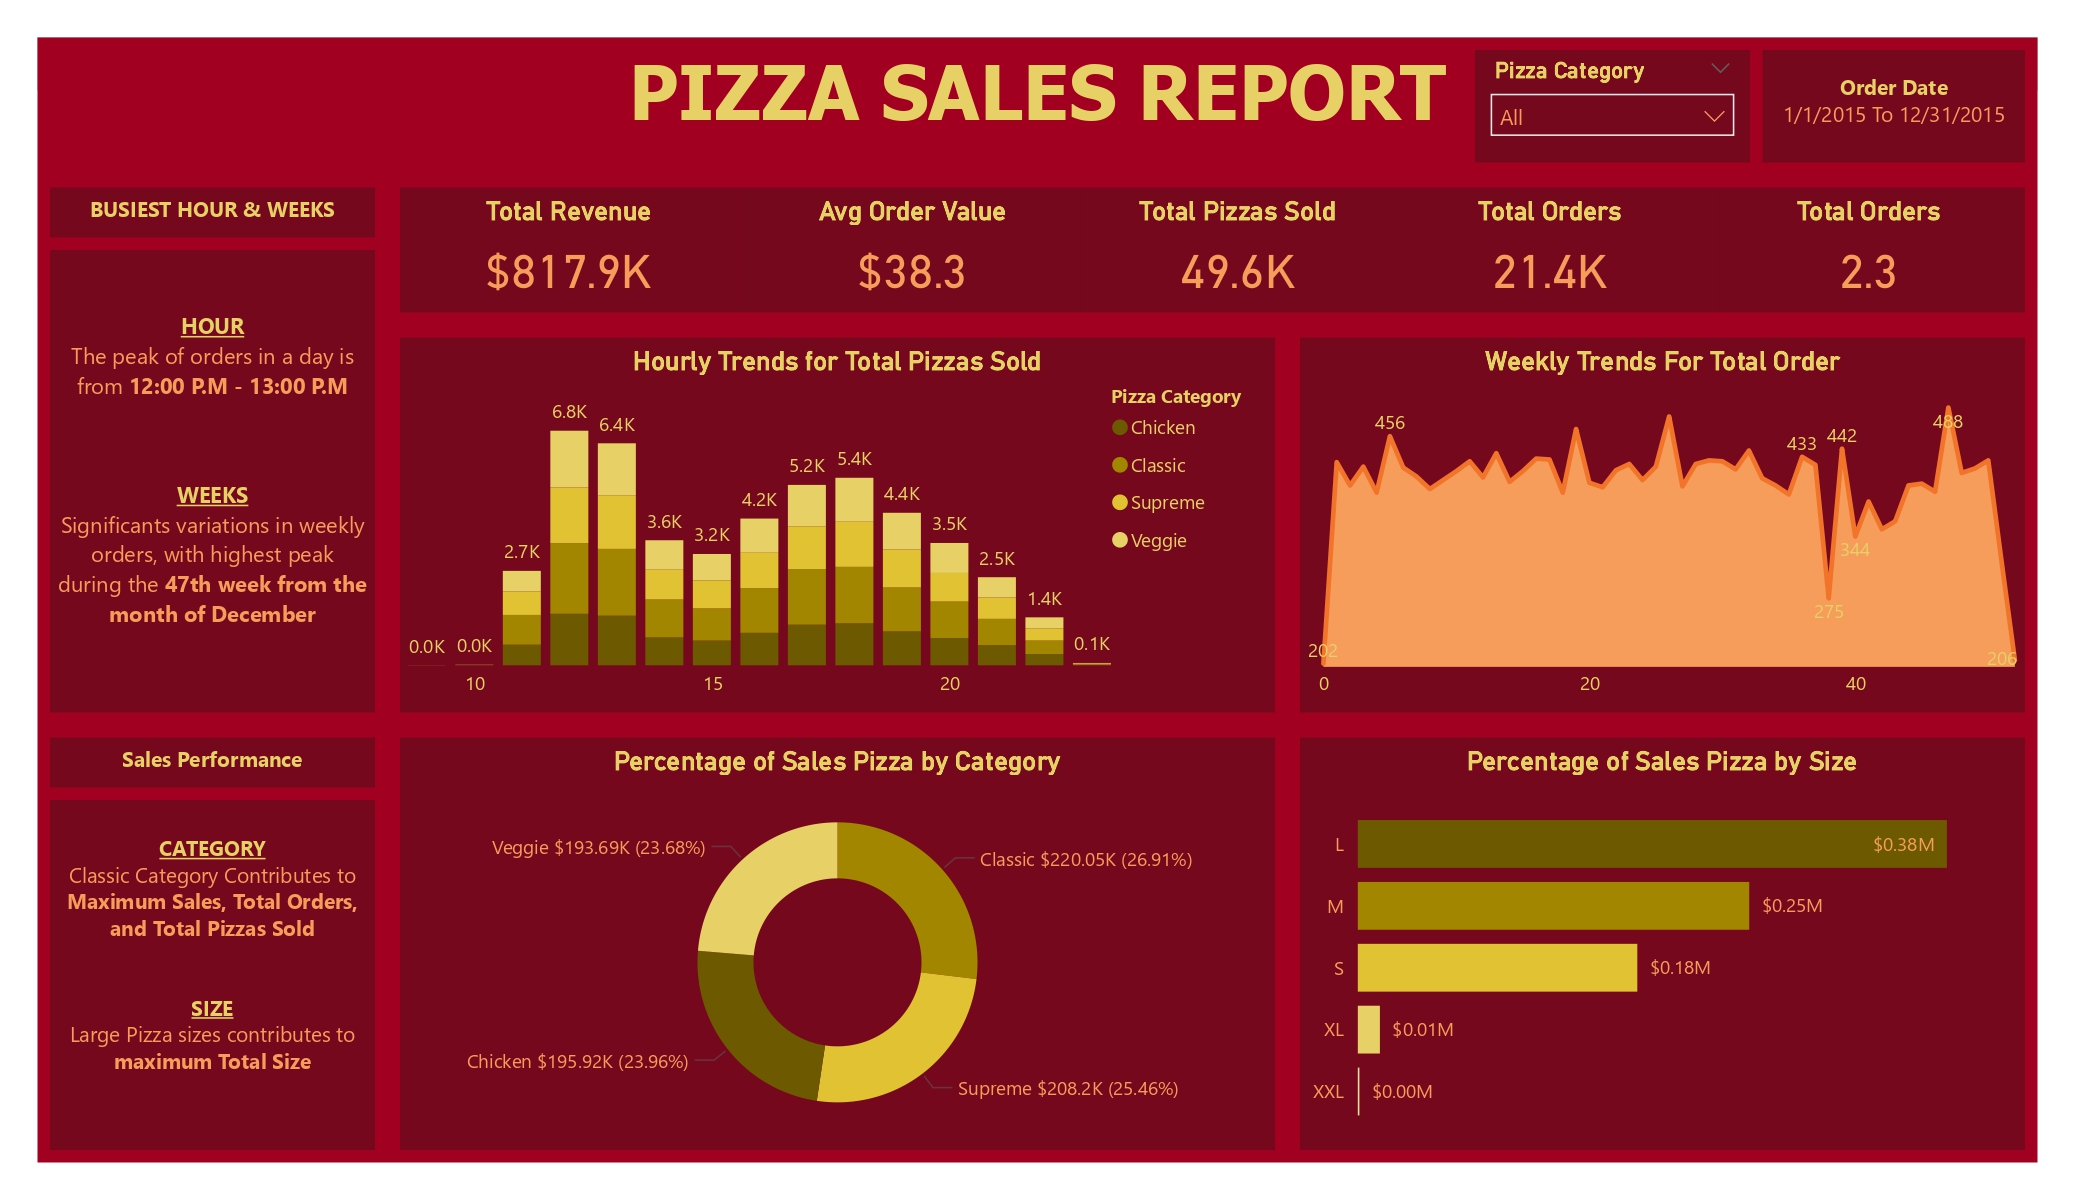

This screenshot's page, from the dashboard's own definition file:
{"tool":"powerbi","page":{"name":"Page 1","canvas":[1280,720],"ordinal":0},"visuals":[{"type":"textbox","box":[352,0,576,80],"z":0},{"type":"card","title":"Avg Order Value","fields":{"Values":["Total_Revenue.avg_order_value"]},"box":[448,96,224,80],"z":1000},{"type":"card","title":"Total Pizzas Sold","fields":{"Values":["Sum(Data Model - Pizza Sales.quantity)"]},"box":[672,96,192,80],"z":2000},{"type":"card","title":"Total Orders","fields":{"Values":["Total_Revenue.total_order"]},"box":[864,96,208,80],"z":3000},{"type":"card","title":"Total Orders","fields":{"Values":["Total_Revenue.avg_pizzas_order"]},"box":[1072,96,200,80],"z":4000},{"type":"card","title":"Total Revenue","fields":{"Values":["Sum(Data Model - Pizza Sales.total_price)"]},"box":[232,96,216,80],"z":5000},{"type":"slicer","fields":{"Values":["Data Model - Pizza Sales.pizza_category"]},"box":[920,8,176,72],"z":6000},{"type":"textbox","box":[1104,8,168,72],"z":7000},{"type":"columnChart","title":"Hourly Trends for Total Pizzas Sold","fields":{"Y":["Data Model - Pizza Sales.total_pizza_perhour"],"Category":["Data Model - Pizza Sales.order_hour"],"Series":["Data Model - Pizza Sales.pizza_category"]},"box":[232,192,560,240],"z":8000},{"type":"donutChart","title":"Percentage of Sales Pizza by Category","fields":{"Y":["Data Model - Pizza Sales.Total Revenue"],"Category":["Data Model - Pizza Sales.pizza_category"]},"box":[232,448,560,264],"z":9000},{"type":"barChart","title":"Percentage of Sales Pizza by Size","fields":{"Category":["Data Model - Pizza Sales.pizza_size"],"Y":["Data Model - Pizza Sales.Total Revenue"]},"box":[808,448,464,264],"z":10000},{"type":"areaChart","title":"Weekly Trends For Total Order","fields":{"Y":["Sum(weekly_trends_for_orders.total_orders)"],"Category":["weekly_trends_for_orders.order_week"]},"box":[808,192,464,240],"z":11000},{"type":"textbox","box":[8,96,208,32],"z":12000},{"type":"textbox","box":[8,136,208,296],"z":13000},{"type":"textbox","box":[8,448,208,32],"z":14000},{"type":"textbox","box":[8,488,208,224],"z":15000}]}

Visuals, with their boxes in screenshot pixels (x1, y1, x2, y2):
textbox: {"left": 588, "top": 38, "right": 1488, "bottom": 162}
"Avg Order Value" card: {"left": 738, "top": 188, "right": 1088, "bottom": 312}
"Total Pizzas Sold" card: {"left": 1088, "top": 188, "right": 1388, "bottom": 312}
"Total Orders" card: {"left": 1388, "top": 188, "right": 1712, "bottom": 312}
"Total Orders" card: {"left": 1712, "top": 188, "right": 2025, "bottom": 312}
"Total Revenue" card: {"left": 400, "top": 188, "right": 738, "bottom": 312}
slicer - Data Model - Pizza Sales.pizza_category: {"left": 1475, "top": 50, "right": 1750, "bottom": 162}
textbox: {"left": 1762, "top": 50, "right": 2025, "bottom": 162}
"Hourly Trends for Total Pizzas Sold" columnChart: {"left": 400, "top": 338, "right": 1275, "bottom": 712}
"Percentage of Sales Pizza by Category" donutChart: {"left": 400, "top": 738, "right": 1275, "bottom": 1150}
"Percentage of Sales Pizza by Size" barChart: {"left": 1300, "top": 738, "right": 2025, "bottom": 1150}
"Weekly Trends For Total Order" areaChart: {"left": 1300, "top": 338, "right": 2025, "bottom": 712}
textbox: {"left": 50, "top": 188, "right": 375, "bottom": 238}
textbox: {"left": 50, "top": 250, "right": 375, "bottom": 712}
textbox: {"left": 50, "top": 738, "right": 375, "bottom": 788}
textbox: {"left": 50, "top": 800, "right": 375, "bottom": 1150}
